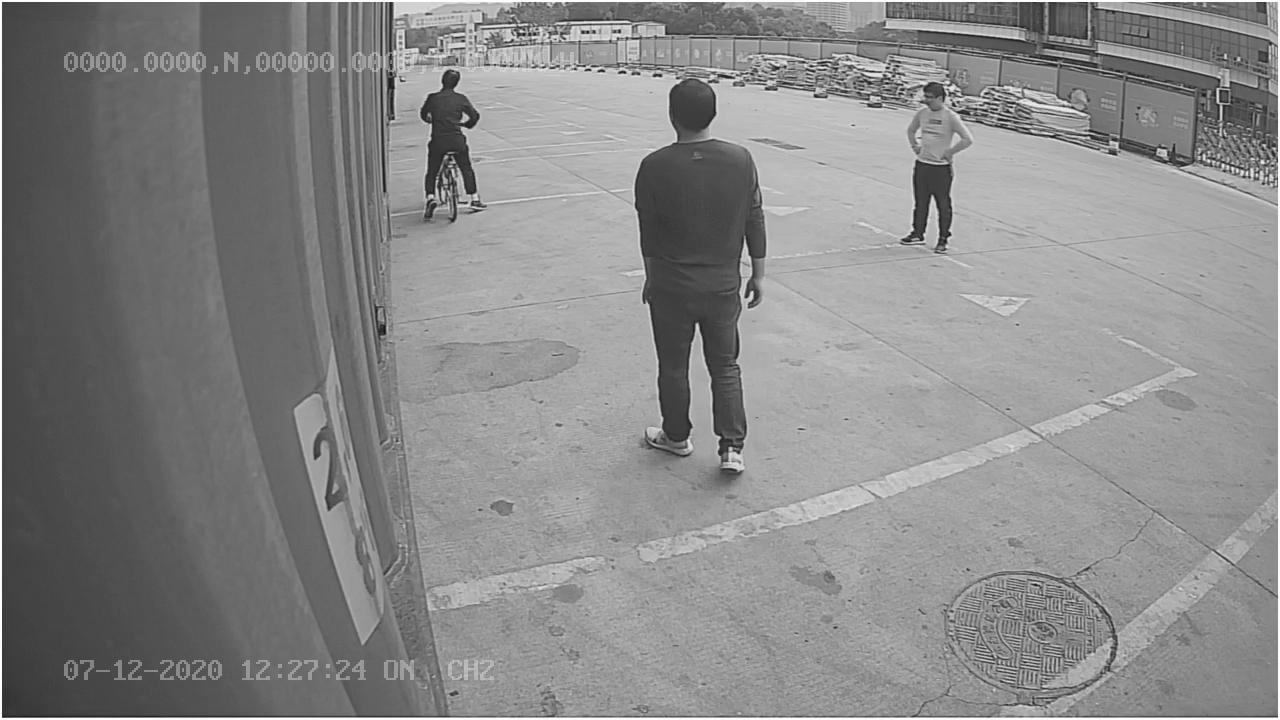person: (622, 73, 770, 484)
